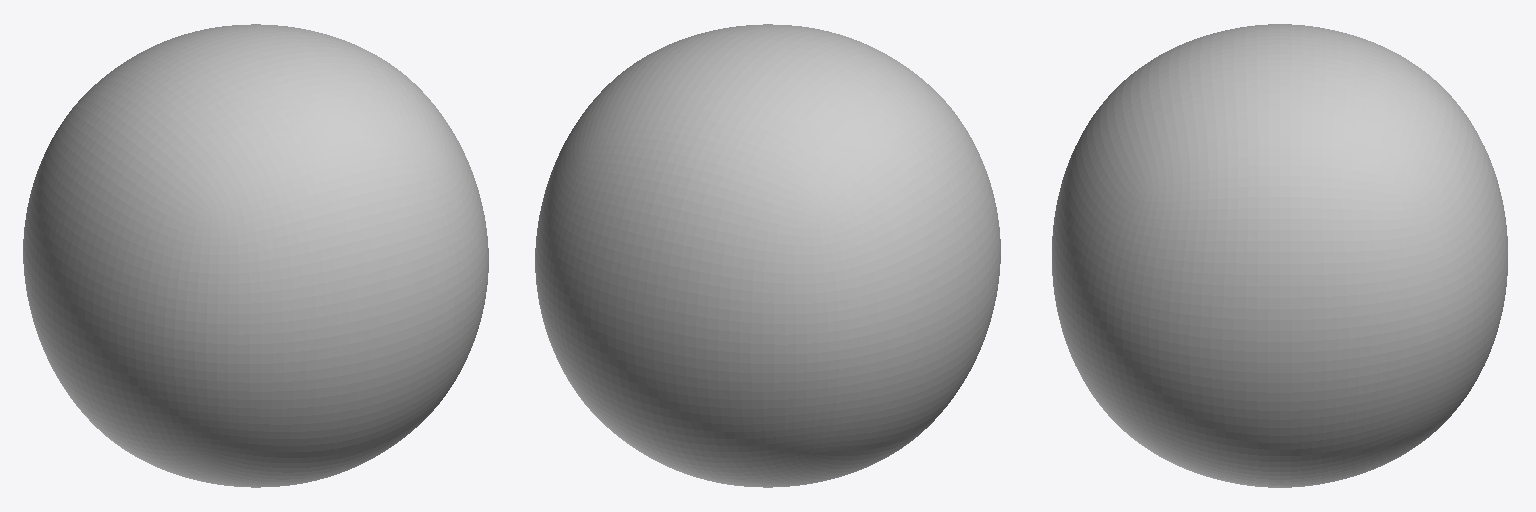
File: eye1.obj
3 renders of one model, left to right at view 1: azimuth 30°, elevation 25°; view 2: azimuth 150°, elevation 25°; view 3: azimuth 270°, elevation 25°, orthographic.
Parts seen in each view (by area): view 1: eye1_Cube.002; view 2: eye1_Cube.002; view 3: eye1_Cube.002.
Part boxes in pixels (bbox=[...]): eye1_Cube.002: bbox=[23, 24, 488, 487]; eye1_Cube.002: bbox=[535, 24, 1000, 487]; eye1_Cube.002: bbox=[1052, 24, 1507, 487].
Bounding box in the file's own units: 0.5541 × 0.5541 × 0.5541.